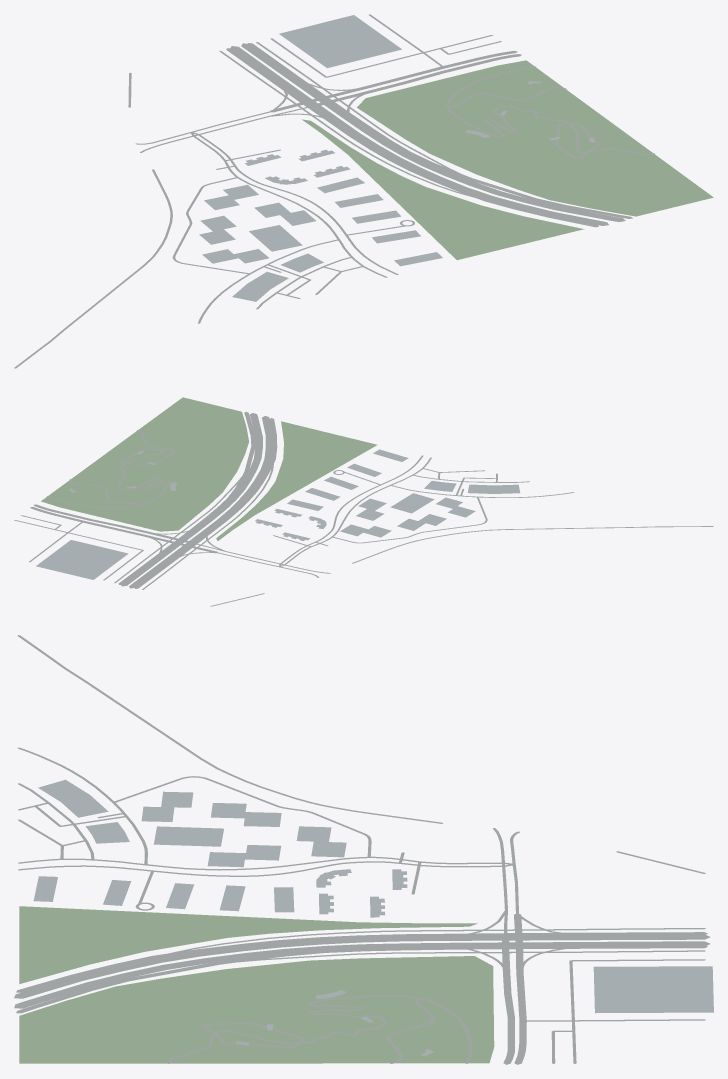
File: -11_4-known-coarse.glb
3 views of the same model, one above another, from view 1: azimuth 30°, elevation 25°; view 2: azimuth 150°, elevation 25°; view 3: azimuth 270°, elevation 25° (orthographic). The views are drawn at different scales.
Bounding box in the file's own units: 962 × 0.15 × 662.
